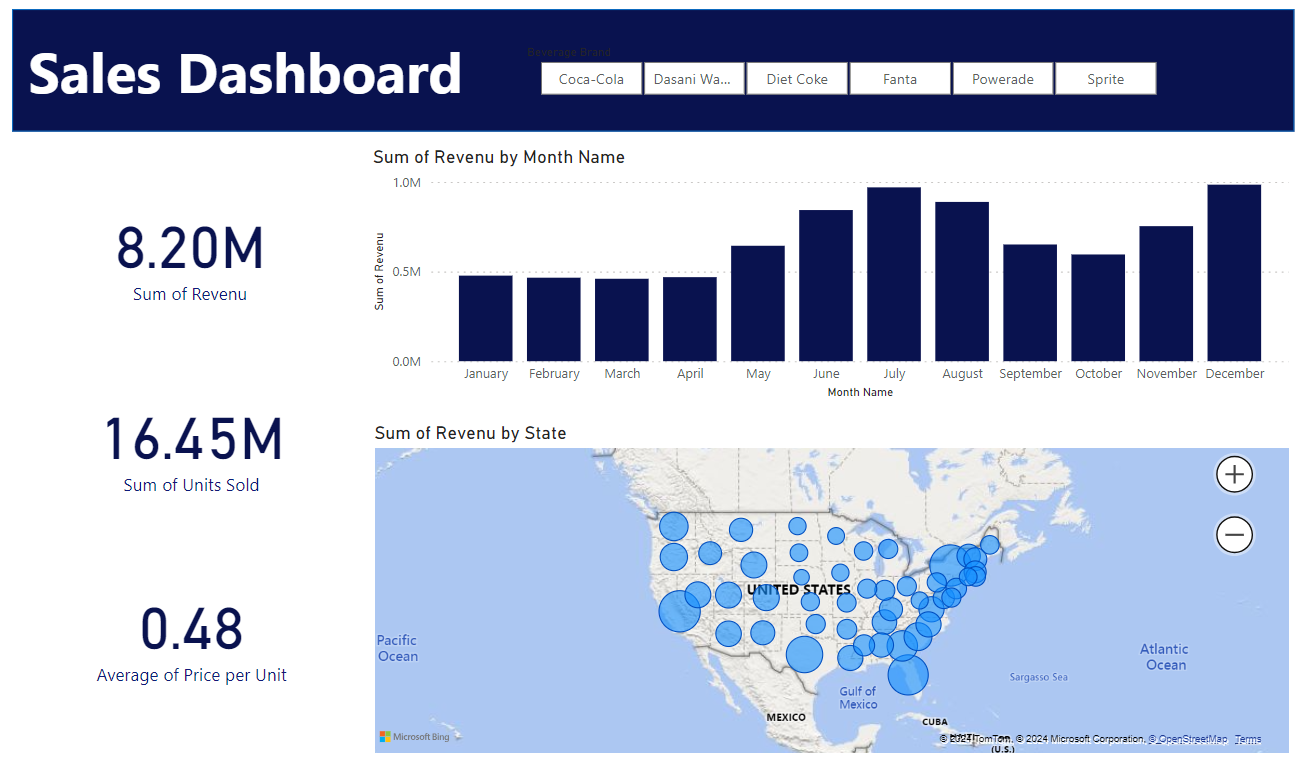

This screenshot's page, from the dashboard's own definition file:
{"tool":"powerbi","page":{"name":"第 1 頁","canvas":[1280,720],"ordinal":0},"visuals":[{"type":"shape","box":[47,11.3,1185.3,113.3],"z":0},{"type":"card","fields":{"Values":["Sum(Data.Revenu)"]},"box":[47,152.2,328.7,165.2],"z":1000},{"type":"card","fields":{"Values":["Sum(Data.Units Sold)"]},"box":[48.6,328.7,328.7,165.2],"z":2000},{"type":"card","fields":{"Values":["Avg(Data.Price per Unit)"]},"box":[48.6,505.2,328.7,165.2],"z":3000},{"type":"columnChart","fields":{"Y":["Sum(Data.Revenu)"],"Category":["Data.Month Name"]},"box":[375.7,137.6,856.6,238],"z":4000},{"type":"map","fields":{"Size":["Sum(Data.Revenu)"],"Category":["Data.State"]},"box":[377.3,391.9,855,310.9],"z":5000},{"type":"slicer","fields":{"Values":["Data.Beverage Brand"]},"box":[601.1,39.4,617.8,59.1],"z":6000}]}

Visuals, with their boxes on the page's 1280x720 design canvas (x1, y1, x2, y2). These are canvas units, not pixel positions in the 1306x760 screenshot, which may show the page scaled, cropped or inside an application window:
shape: bbox=[47, 11, 1232, 125]
card - Sum(Data.Revenu): bbox=[47, 152, 376, 317]
card - Sum(Data.Units Sold): bbox=[49, 329, 377, 494]
card - Avg(Data.Price per Unit): bbox=[49, 505, 377, 670]
columnChart - Sum(Data.Revenu) x Data.Month Name: bbox=[376, 138, 1232, 376]
map - Sum(Data.Revenu) x Data.State: bbox=[377, 392, 1232, 703]
slicer - Data.Beverage Brand: bbox=[601, 39, 1219, 98]
